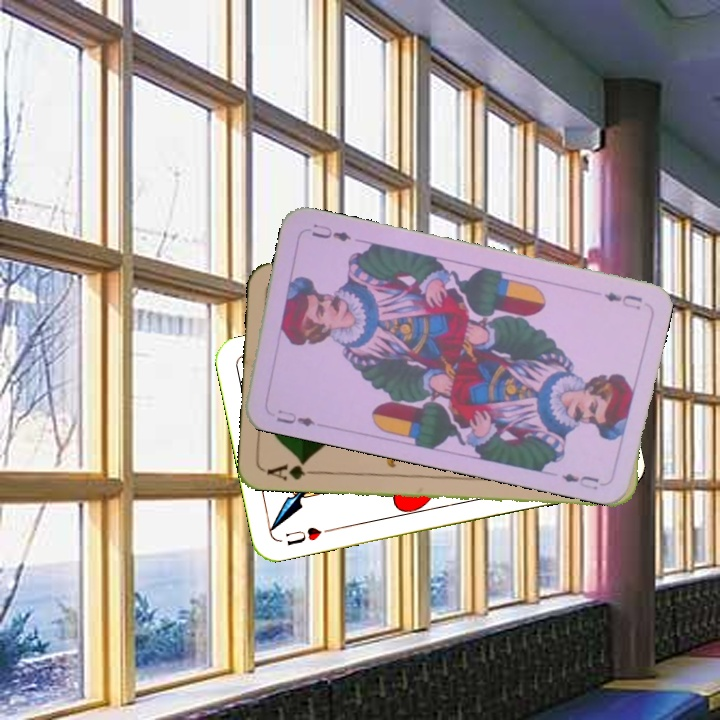EU: (272, 405, 318, 430), (600, 288, 645, 312)
GA: (262, 456, 322, 483)
HU: (282, 522, 335, 549)
